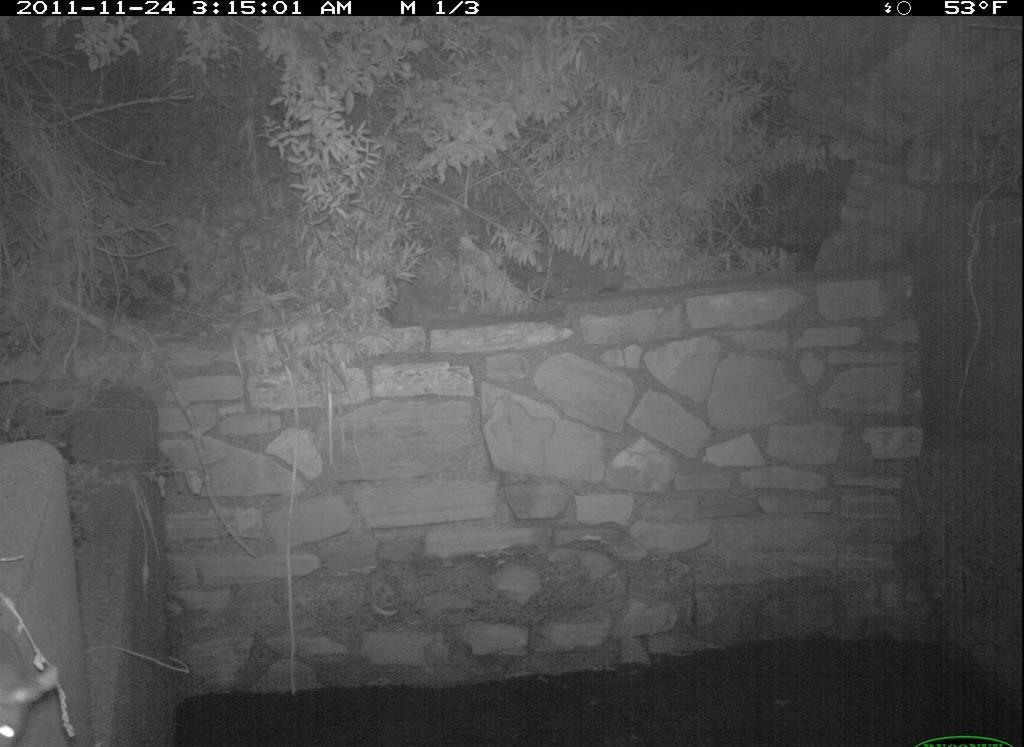rodent: (2, 633, 67, 747)
